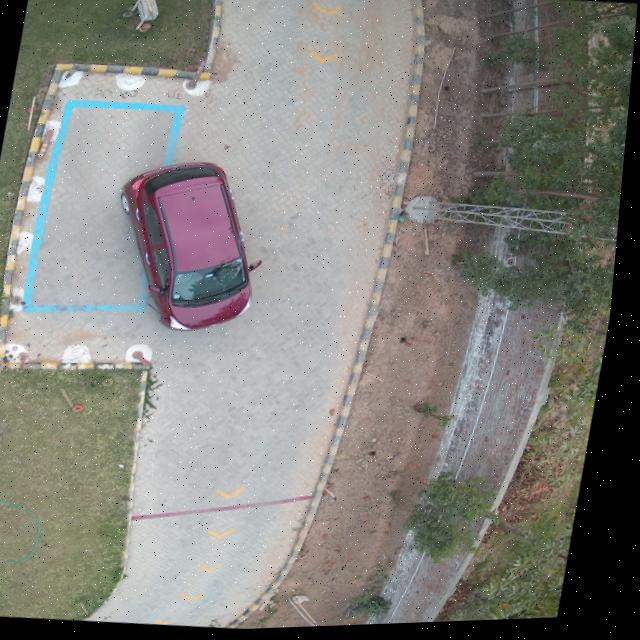car: (124, 163, 256, 332)
